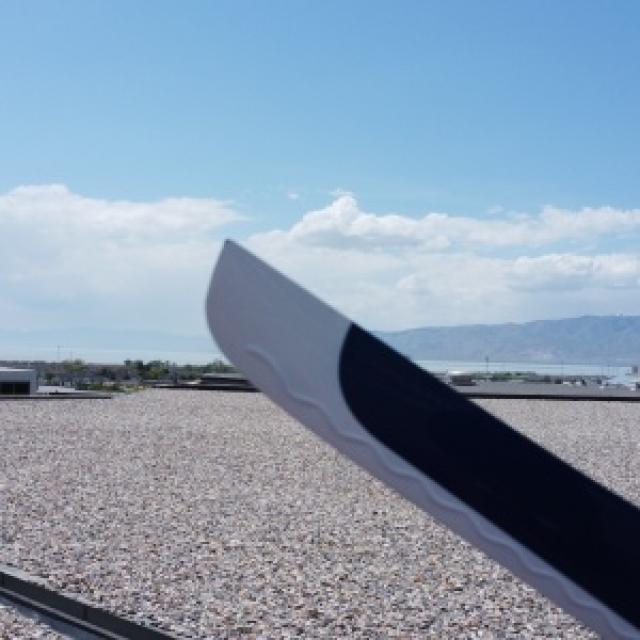healthy: (205, 241, 638, 638)
